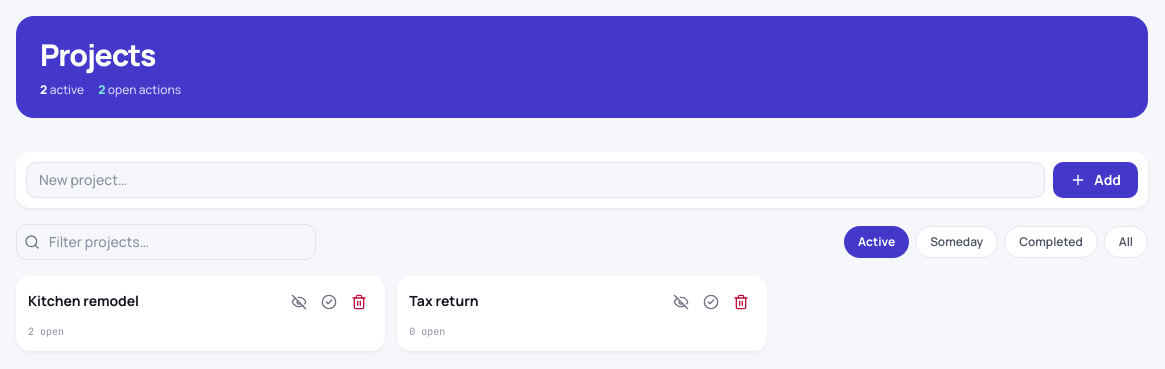
projects page › filters the list
The width and height of the screenshot is (1165, 369).
expect the text "Kitchen remodel" is shown: met, box [28, 290, 139, 310]
Type "tax" into the field labelled "Filter projects" at (166,242), box [16, 224, 316, 260]
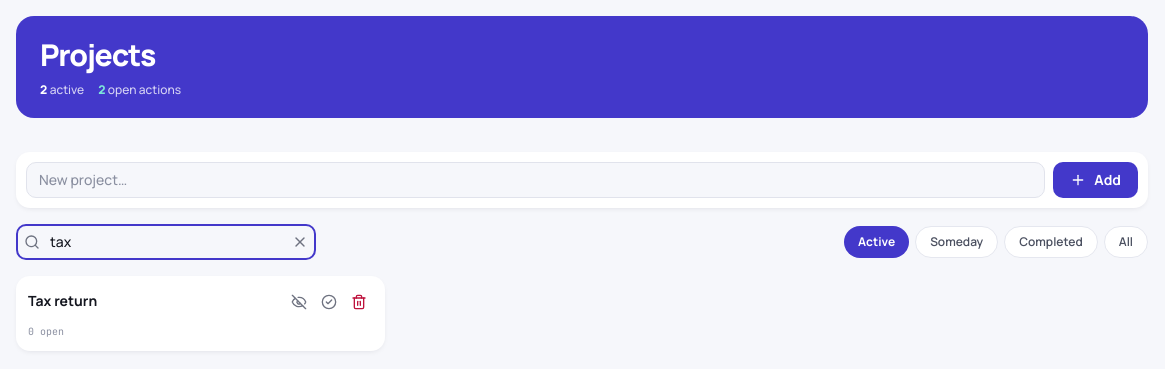
expect the text "Tax return" is shown: met, box [28, 290, 97, 310]
expect the link "Kitchen remodel" is gone: met
